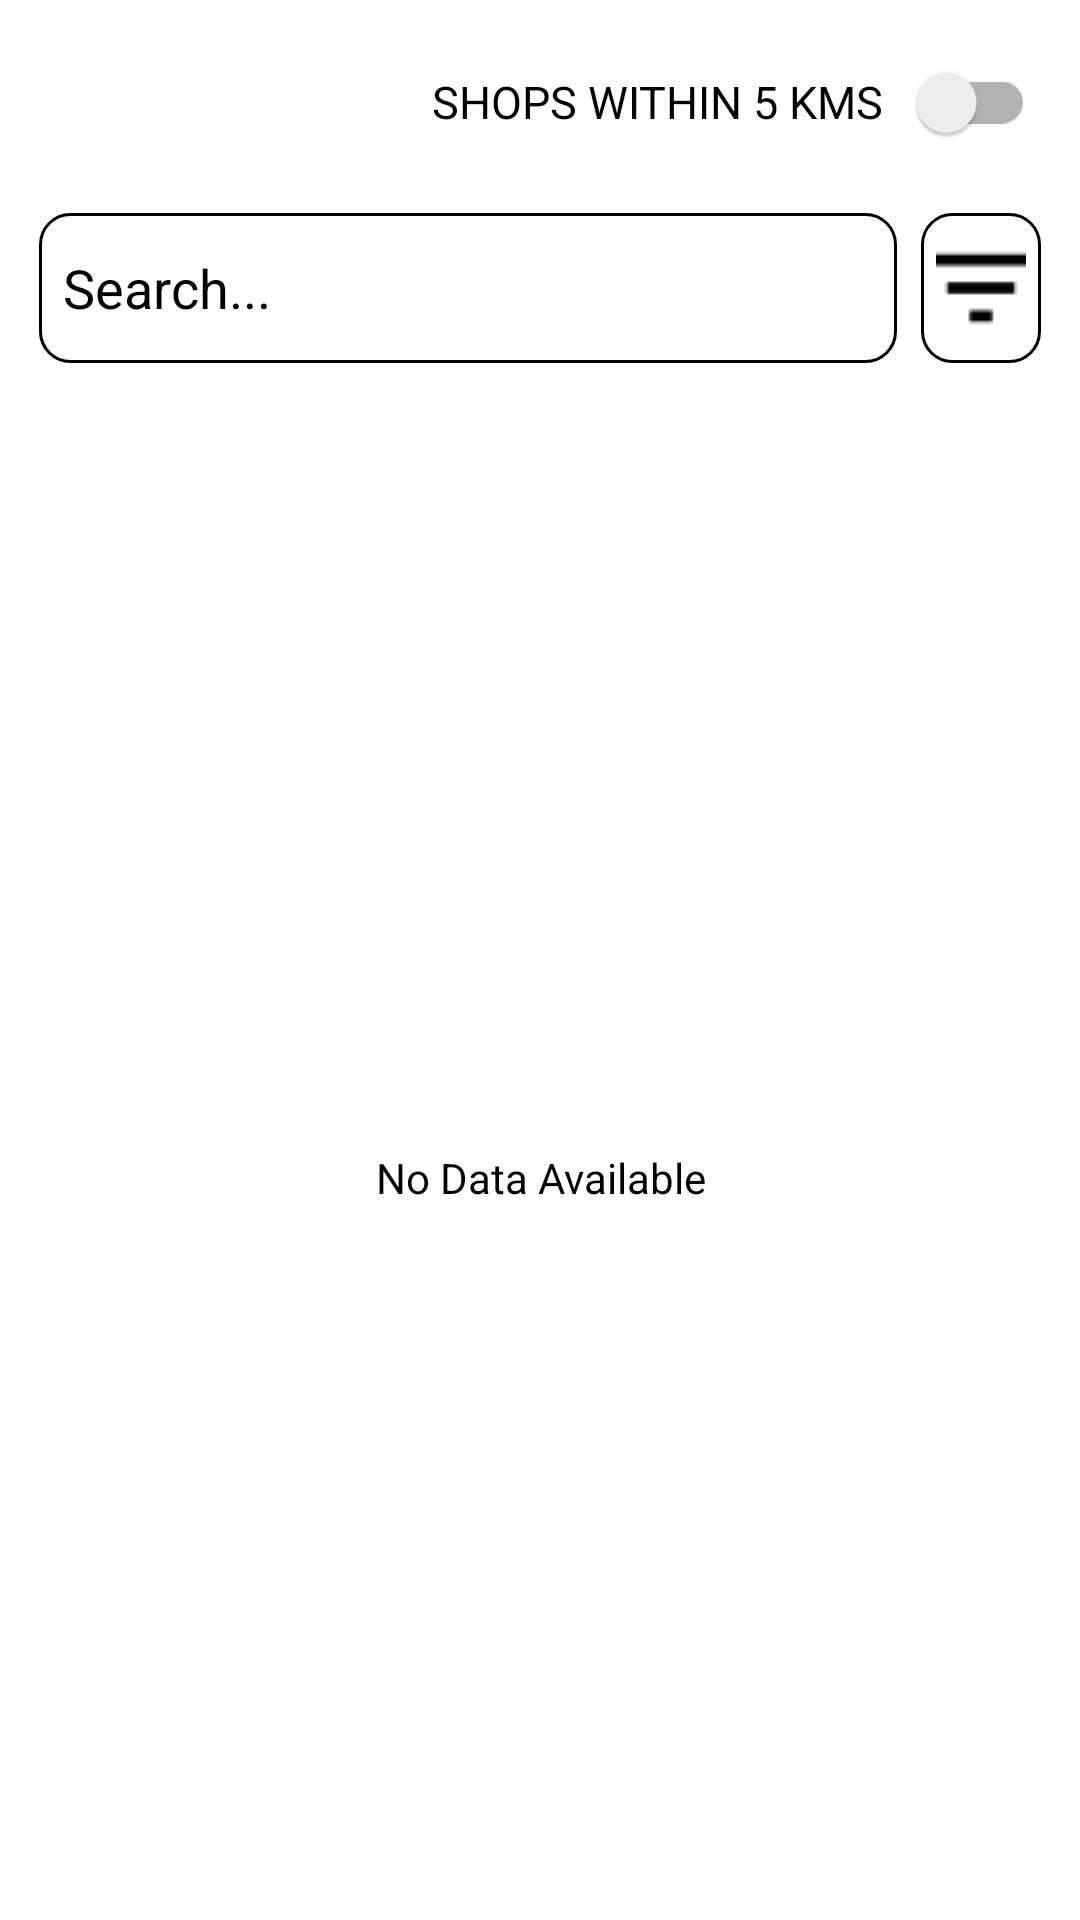

Icons on this 1080*1920 Android screen, each with its box as (x1, y1, x2, y2):
Filter: (936, 252, 1026, 324)
